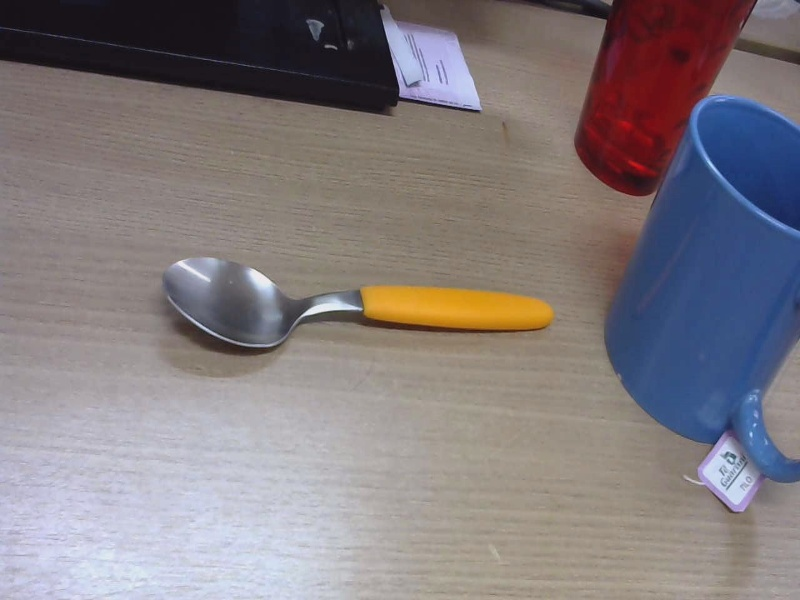cuchara: (150, 229, 568, 376)
